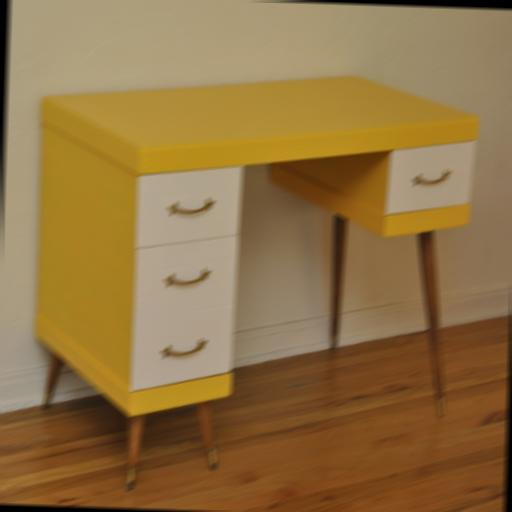desk: (26, 64, 480, 502)
wall: (0, 0, 512, 435)
